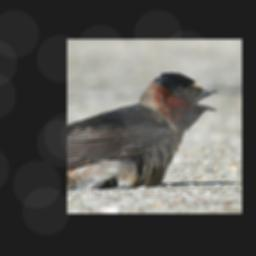Swallow: (67, 72, 220, 192)
